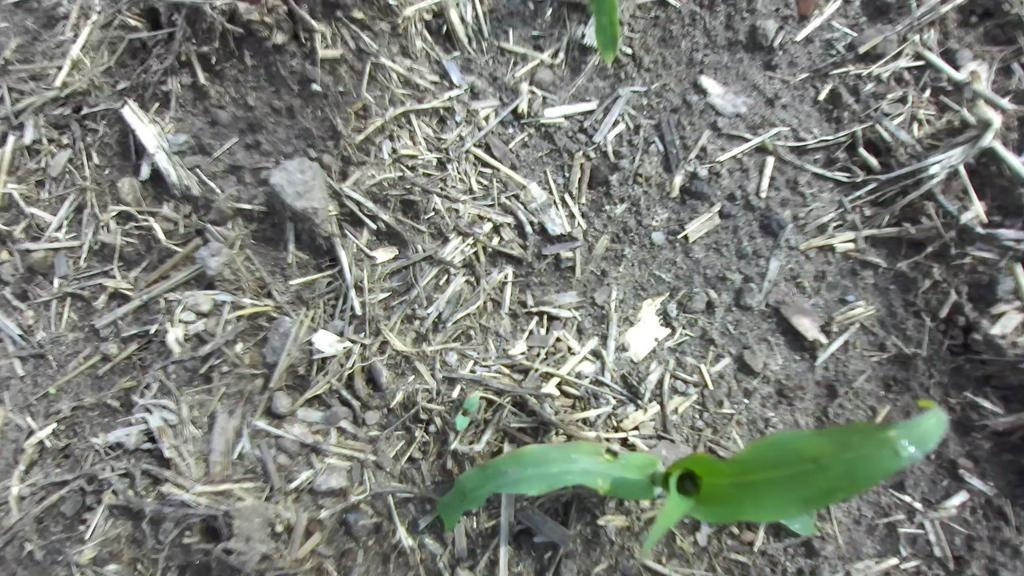BroWeed: (448, 388, 483, 435), (47, 388, 57, 394)
Maize: (430, 381, 964, 576)
